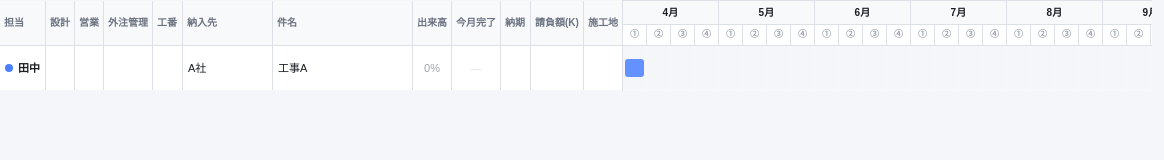
Test case: GanttChart › メモ編集: キャンセル › Escapeでキャンセルすると保存されない
Hover over the 1st cell with class "gantt-cell".
mouse_move(634, 68)  # box [622, 45, 646, 90]
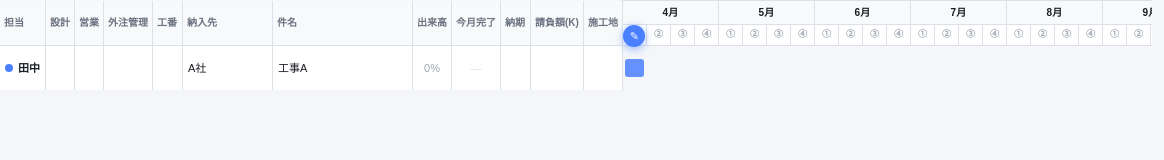
Click the text "✎".
click(634, 36)  # box [623, 25, 645, 47]
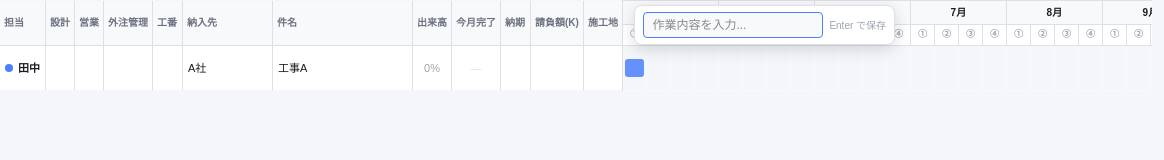
Type "キャンセルされる内容" into the field with placeholder "作業内容を入力...".
click(733, 25); type("キャンセルされる内容")  # box [643, 12, 823, 38]
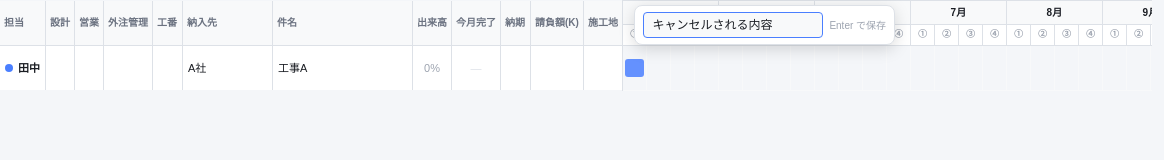
Press Escape
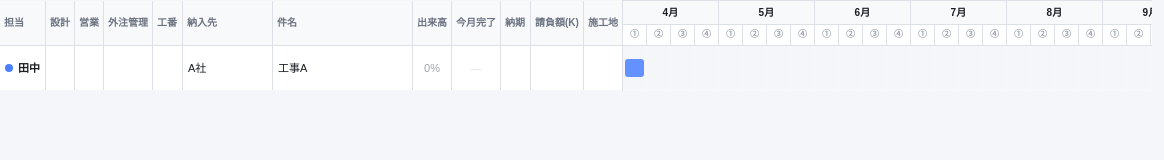
expect the field with placeholder "作業内容を入力..." is gone: met
